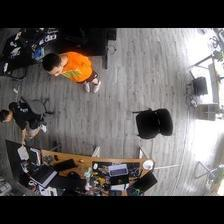normal: (41, 51, 102, 98), (1, 96, 49, 143)
